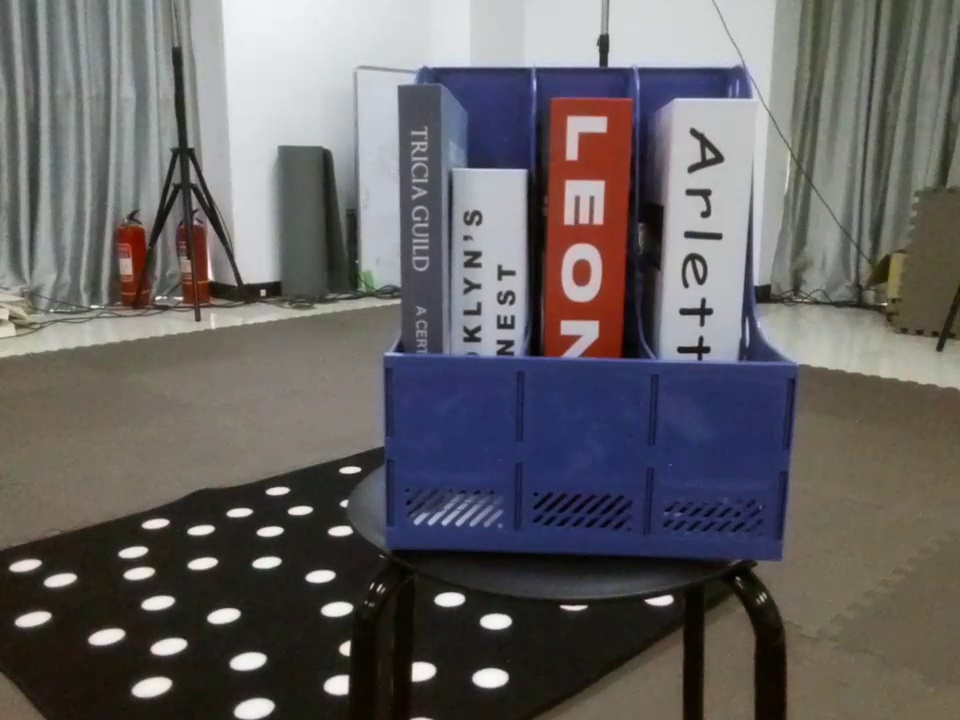files: (376, 54, 806, 578)
